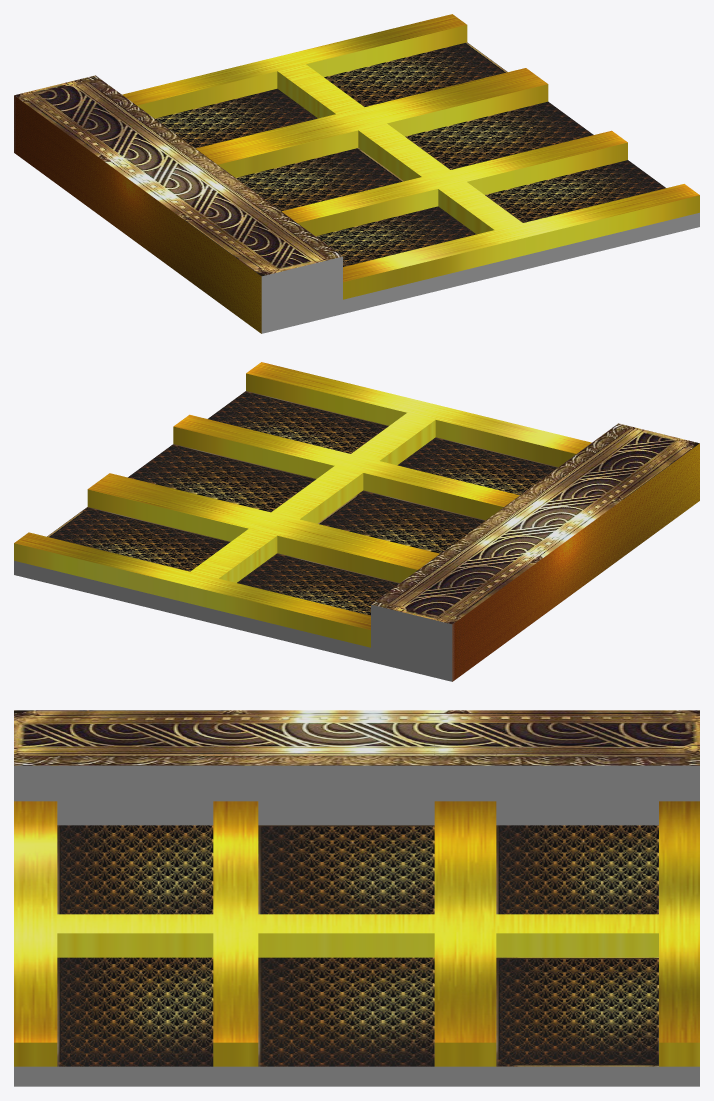
Rendered from door.fbx.
The picture shows the model from 3 angles, top to bottom: view 1: azimuth 30°, elevation 25°; view 2: azimuth 150°, elevation 25°; view 3: azimuth 270°, elevation 25°; orthographic projection. The views are drawn at different scales.
Parts seen in each view (by area): view 1: pCube1; view 2: pCube1; view 3: pCube1.
Part boxes in pixels (x1,y1,x2,y2): pCube1: (14,14,699,333); pCube1: (14,362,699,681); pCube1: (14,710,699,1086).
Bounding box in the file's own units: 32.09 × 4.02 × 31.37.
